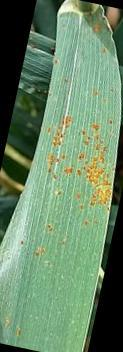Wheat: (45, 110, 112, 213), (21, 218, 97, 278), (55, 26, 108, 106), (6, 283, 68, 342)
